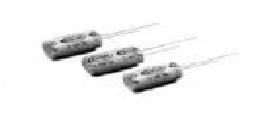Electrolytic-capacitor: (121, 51, 238, 95), (78, 46, 150, 74), (39, 31, 110, 57)
